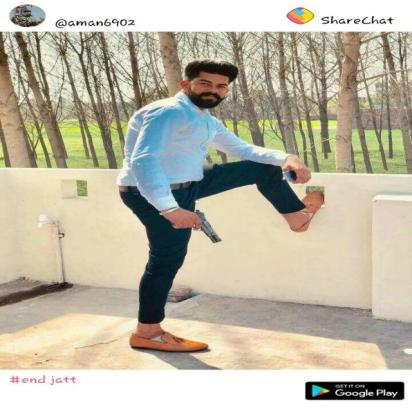Gun: (169, 210, 223, 244)
